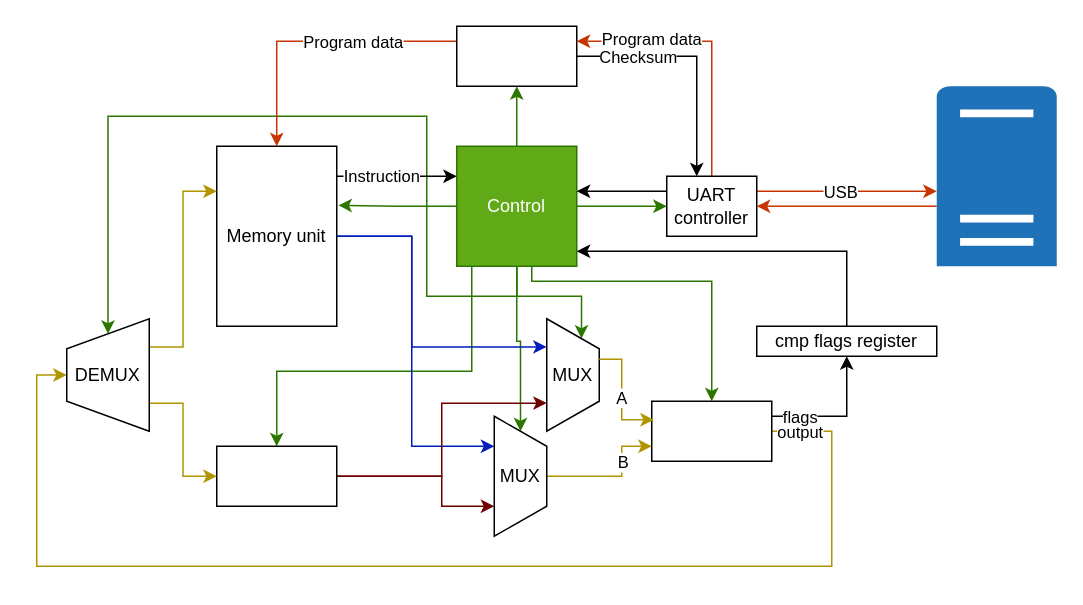
Some shapes in this 1083 by 605 pixel diagram are drawn without their labels. Here are the shapes that lost their labels. From the top down, the centre of each, then its label:
the point at 516,55: Program loader
the point at 996,176: Host computer
the point at 711,430: ALU
the point at 276,475: Register file
